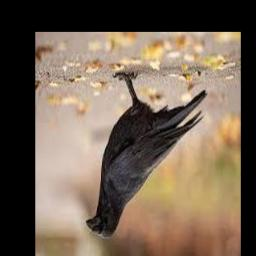Crow: (85, 71, 207, 239)
